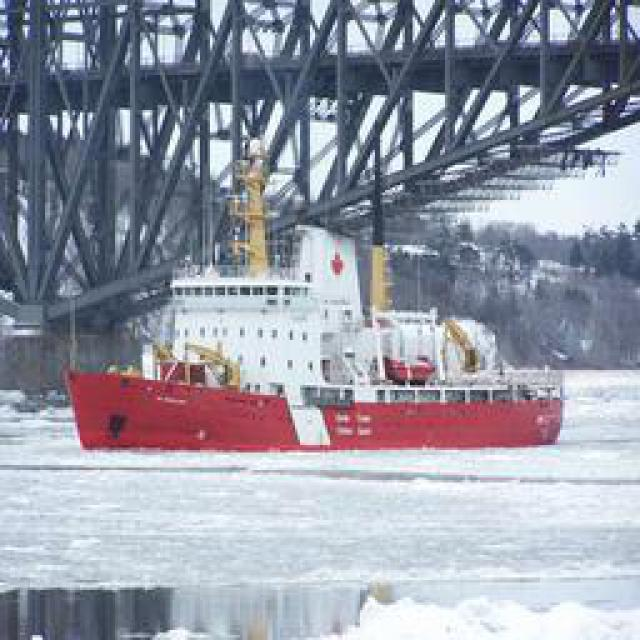Ship: (79, 346, 562, 461)
